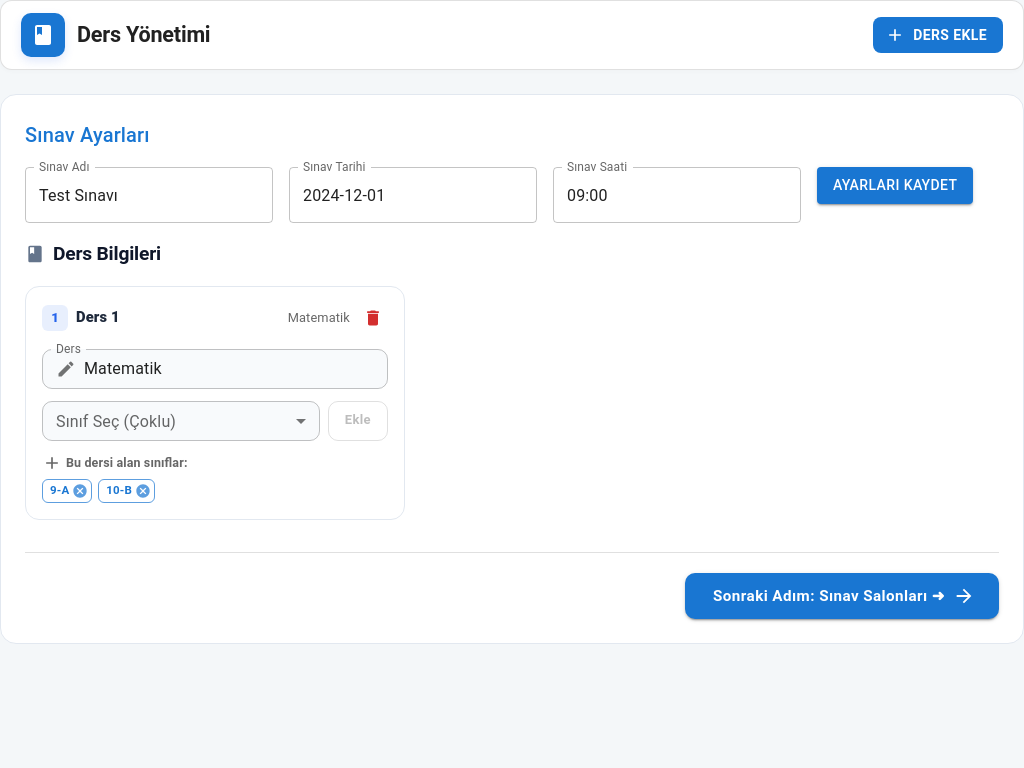
Test: AyarlarFormu Component › should add new course when add button is clicked
This screenshot has width=1024, height=768.
Step 1. Click the button "Ders Ekle" → (938, 35), box [873,17,1003,53]
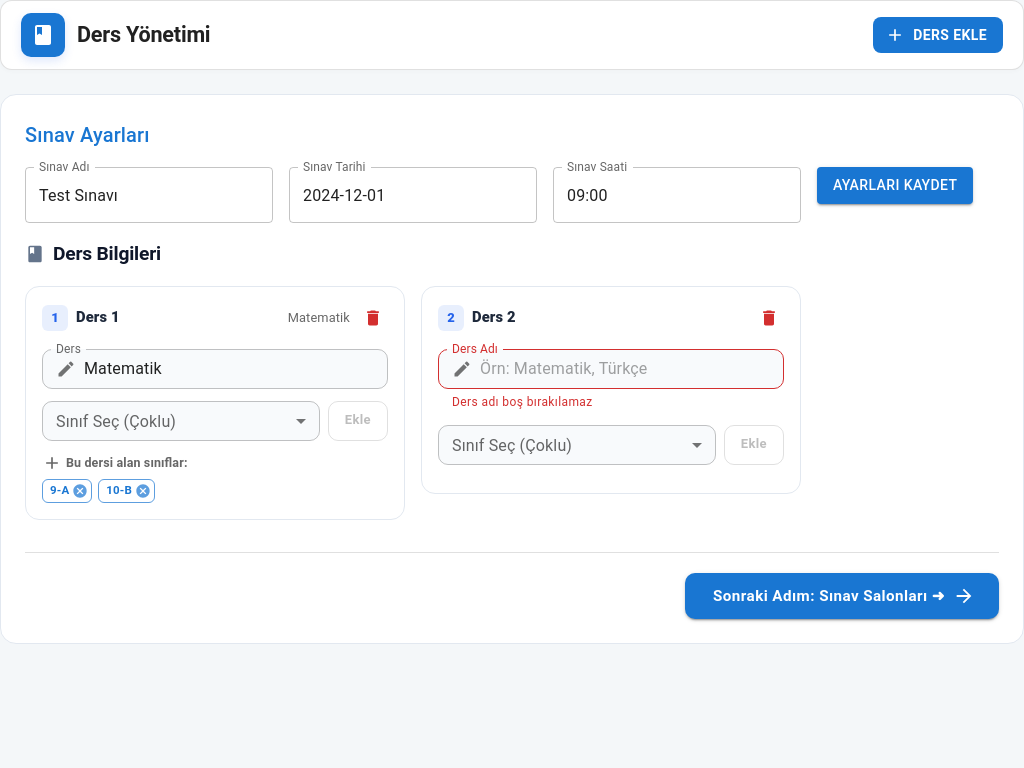
Result: the field labelled "Ders Adı" is shown at [480,349,784,389]
